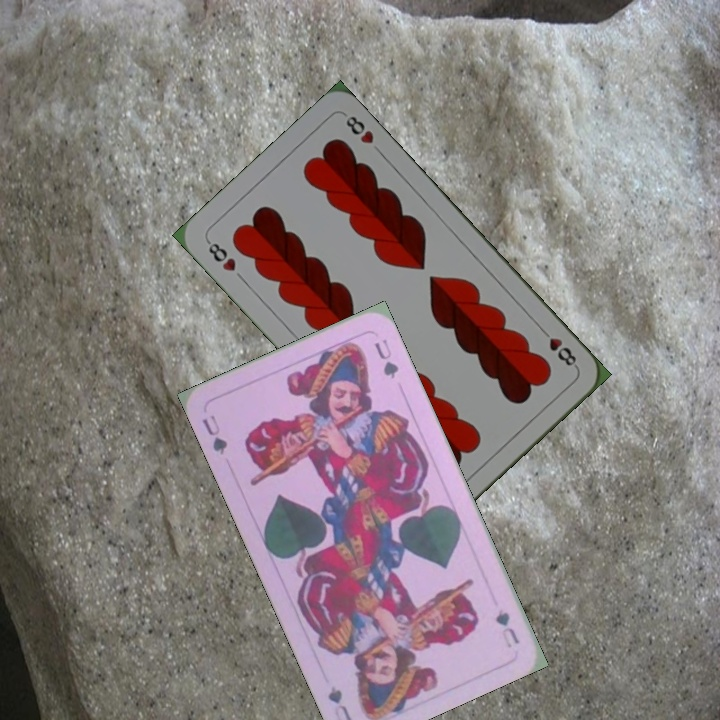GU: (198, 410, 230, 458), (491, 604, 523, 651)
H8: (536, 323, 580, 371), (202, 236, 239, 274)
